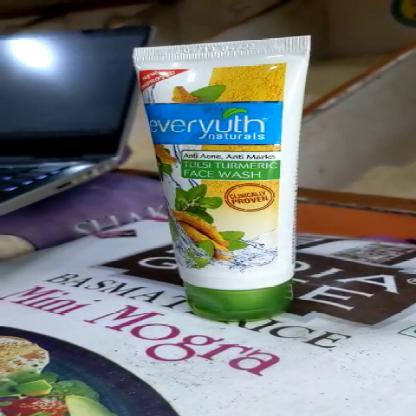EY AAAM TULSI TURMERIC FACEWASH50G: (140, 47, 298, 312)
